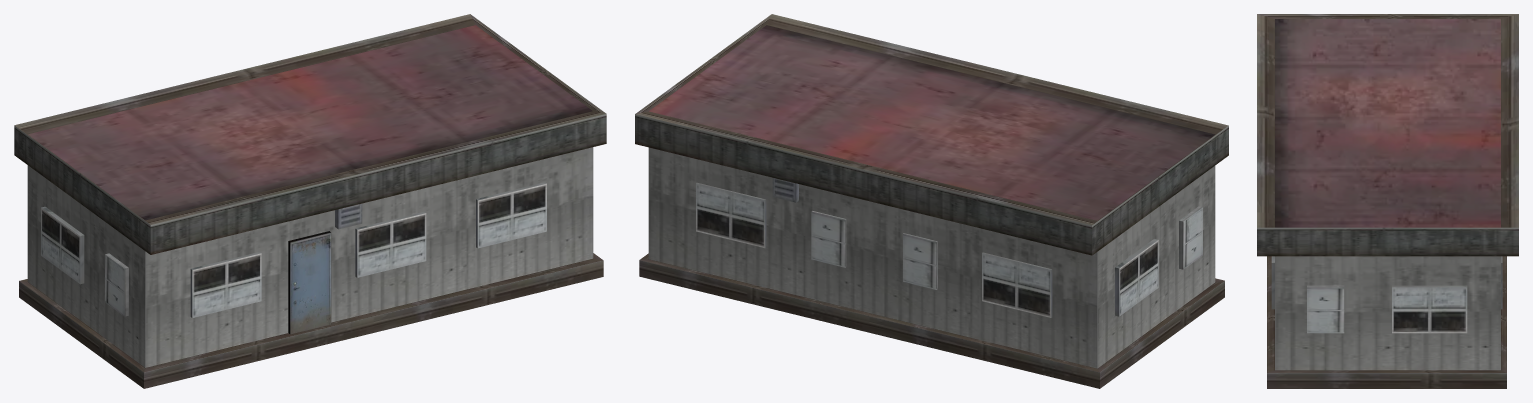
File: ind-office-trailer.lod0.glb
The picture shows the model from 3 angles, left to right: view 1: azimuth 30°, elevation 25°; view 2: azimuth 150°, elevation 25°; view 3: azimuth 270°, elevation 25°; orthographic projection. The views are drawn at different scales.
Visible parts, largest first — view 1: Industrial_OfficeTrailer_1_Industrial_Walls_FLR_1_0, Industrial_OfficeTrailer_1_Industrial_Trim_FLR_1_0; view 2: Industrial_OfficeTrailer_1_Industrial_Walls_FLR_1_0, Industrial_OfficeTrailer_1_Industrial_Trim_FLR_1_0; view 3: Industrial_OfficeTrailer_1_Industrial_Walls_FLR_1_0, Industrial_OfficeTrailer_1_Industrial_Trim_FLR_1_0.
Part boxes in pixels (box(x1,y1,x2,y2)): Industrial_OfficeTrailer_1_Industrial_Walls_FLR_1_0: box(14, 14, 606, 388); Industrial_OfficeTrailer_1_Industrial_Trim_FLR_1_0: box(41, 182, 546, 334); Industrial_OfficeTrailer_1_Industrial_Walls_FLR_1_0: box(635, 14, 1228, 388); Industrial_OfficeTrailer_1_Industrial_Trim_FLR_1_0: box(696, 178, 1202, 317); Industrial_OfficeTrailer_1_Industrial_Walls_FLR_1_0: box(1257, 14, 1518, 388); Industrial_OfficeTrailer_1_Industrial_Trim_FLR_1_0: box(1271, 256, 1502, 333).
Bounding box in the file's own units: 11.28 × 3.93 × 5.8.
Materials: 2 (2 with a texture image).
